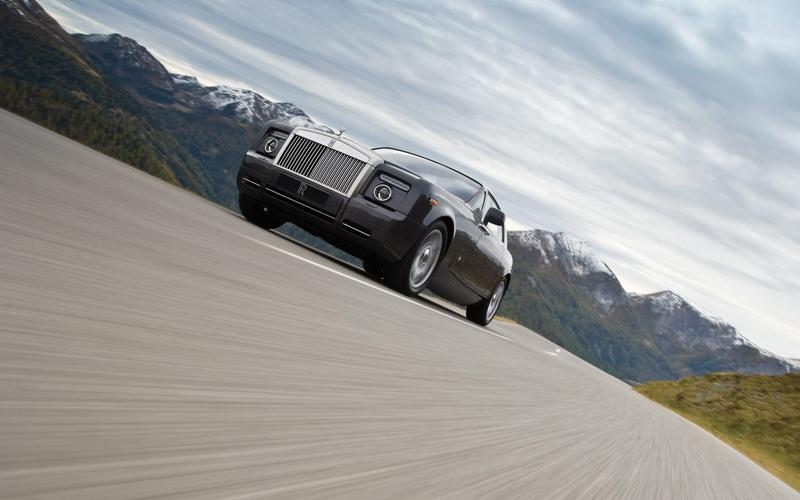汽车: (227, 109, 505, 332)
